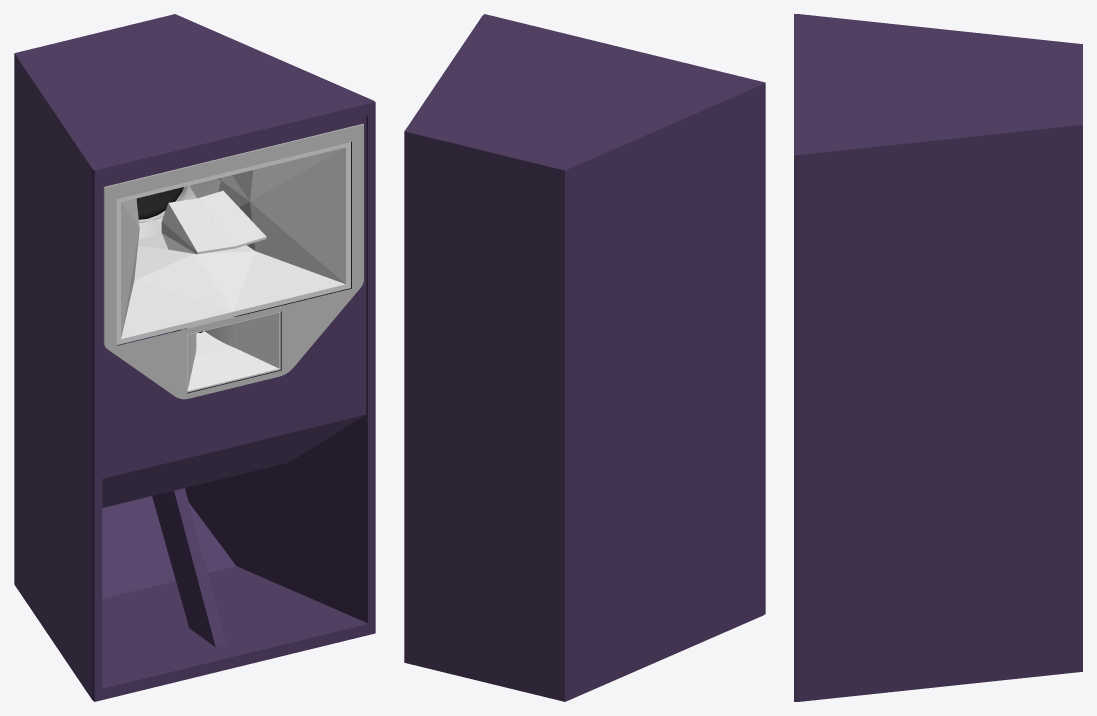
Rendered from funktion-top-1.fbx.
The picture shows the model from 3 angles, left to right: view 1: azimuth 30°, elevation 25°; view 2: azimuth 150°, elevation 25°; view 3: azimuth 270°, elevation 25°; orthographic projection. The views are drawn at different scales.
Parts seen in each view (by area): view 1: Polygon_13, Polygon_4, Polygon_12, Polygon_7, Polygon, Polygon_5, Polygon_10, Polygon_6; view 2: Polygon_13; view 3: Polygon_13.
Part boxes in pixels (bbox=[...]): Polygon_13: bbox=[14, 14, 375, 701]; Polygon_4: bbox=[121, 147, 345, 338]; Polygon_12: bbox=[103, 124, 363, 399]; Polygon_7: bbox=[187, 313, 279, 390]; Polygon: bbox=[161, 190, 266, 254]; Polygon_5: bbox=[116, 142, 350, 344]; Polygon_10: bbox=[187, 311, 280, 392]; Polygon_6: bbox=[136, 187, 183, 219]; Polygon_13: bbox=[404, 14, 765, 701]; Polygon_13: bbox=[794, 14, 1082, 701].
Size of the model in its own units: 52 by 94 by 45.
